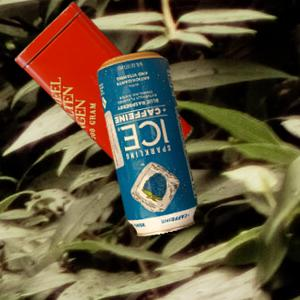can: (96, 51, 196, 237)
